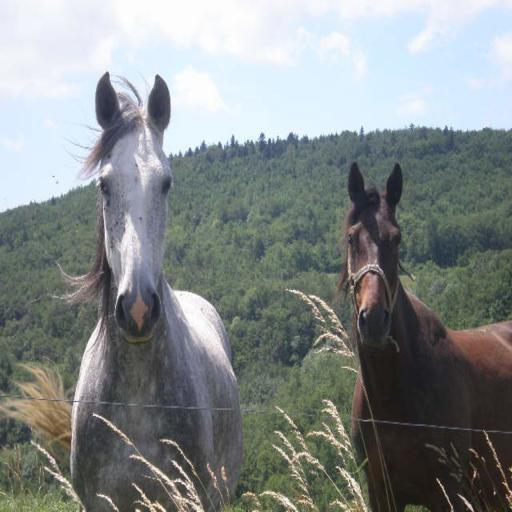horse: (0, 67, 243, 511), (334, 159, 512, 509)
